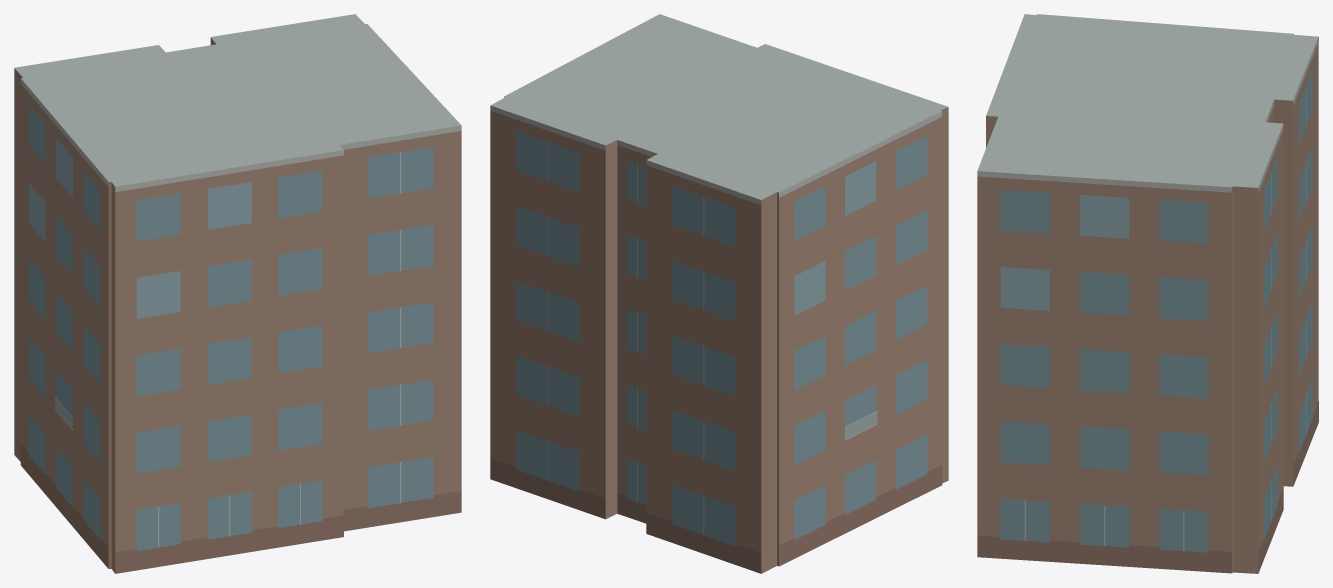
Rendered from survey-upis-32671737.glb.
The picture shows the model from 3 angles, left to right: view 1: azimuth 30°, elevation 25°; view 2: azimuth 150°, elevation 25°; view 3: azimuth 270°, elevation 25°; orthographic projection. The views are drawn at different scales.
Parts seen in each view (by area): view 1: survey-upis-32671737.tmp; view 2: survey-upis-32671737.tmp; view 3: survey-upis-32671737.tmp.
Boxes of the visible parts, bbox=[...] form: survey-upis-32671737.tmp: bbox=[14, 14, 461, 573]; survey-upis-32671737.tmp: bbox=[490, 14, 948, 573]; survey-upis-32671737.tmp: bbox=[977, 14, 1318, 573].
Bounding box in the file's own units: 16.86 × 17.45 × 14.
